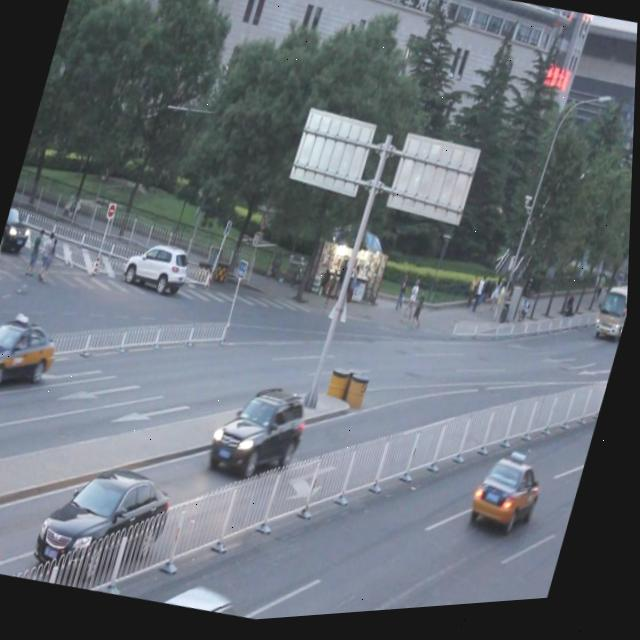car: (32, 451, 181, 598), (207, 381, 315, 489), (467, 454, 549, 543), (0, 303, 67, 404), (119, 238, 196, 306), (1, 207, 36, 257), (0, 502, 15, 574)
truck: (593, 288, 631, 349)
